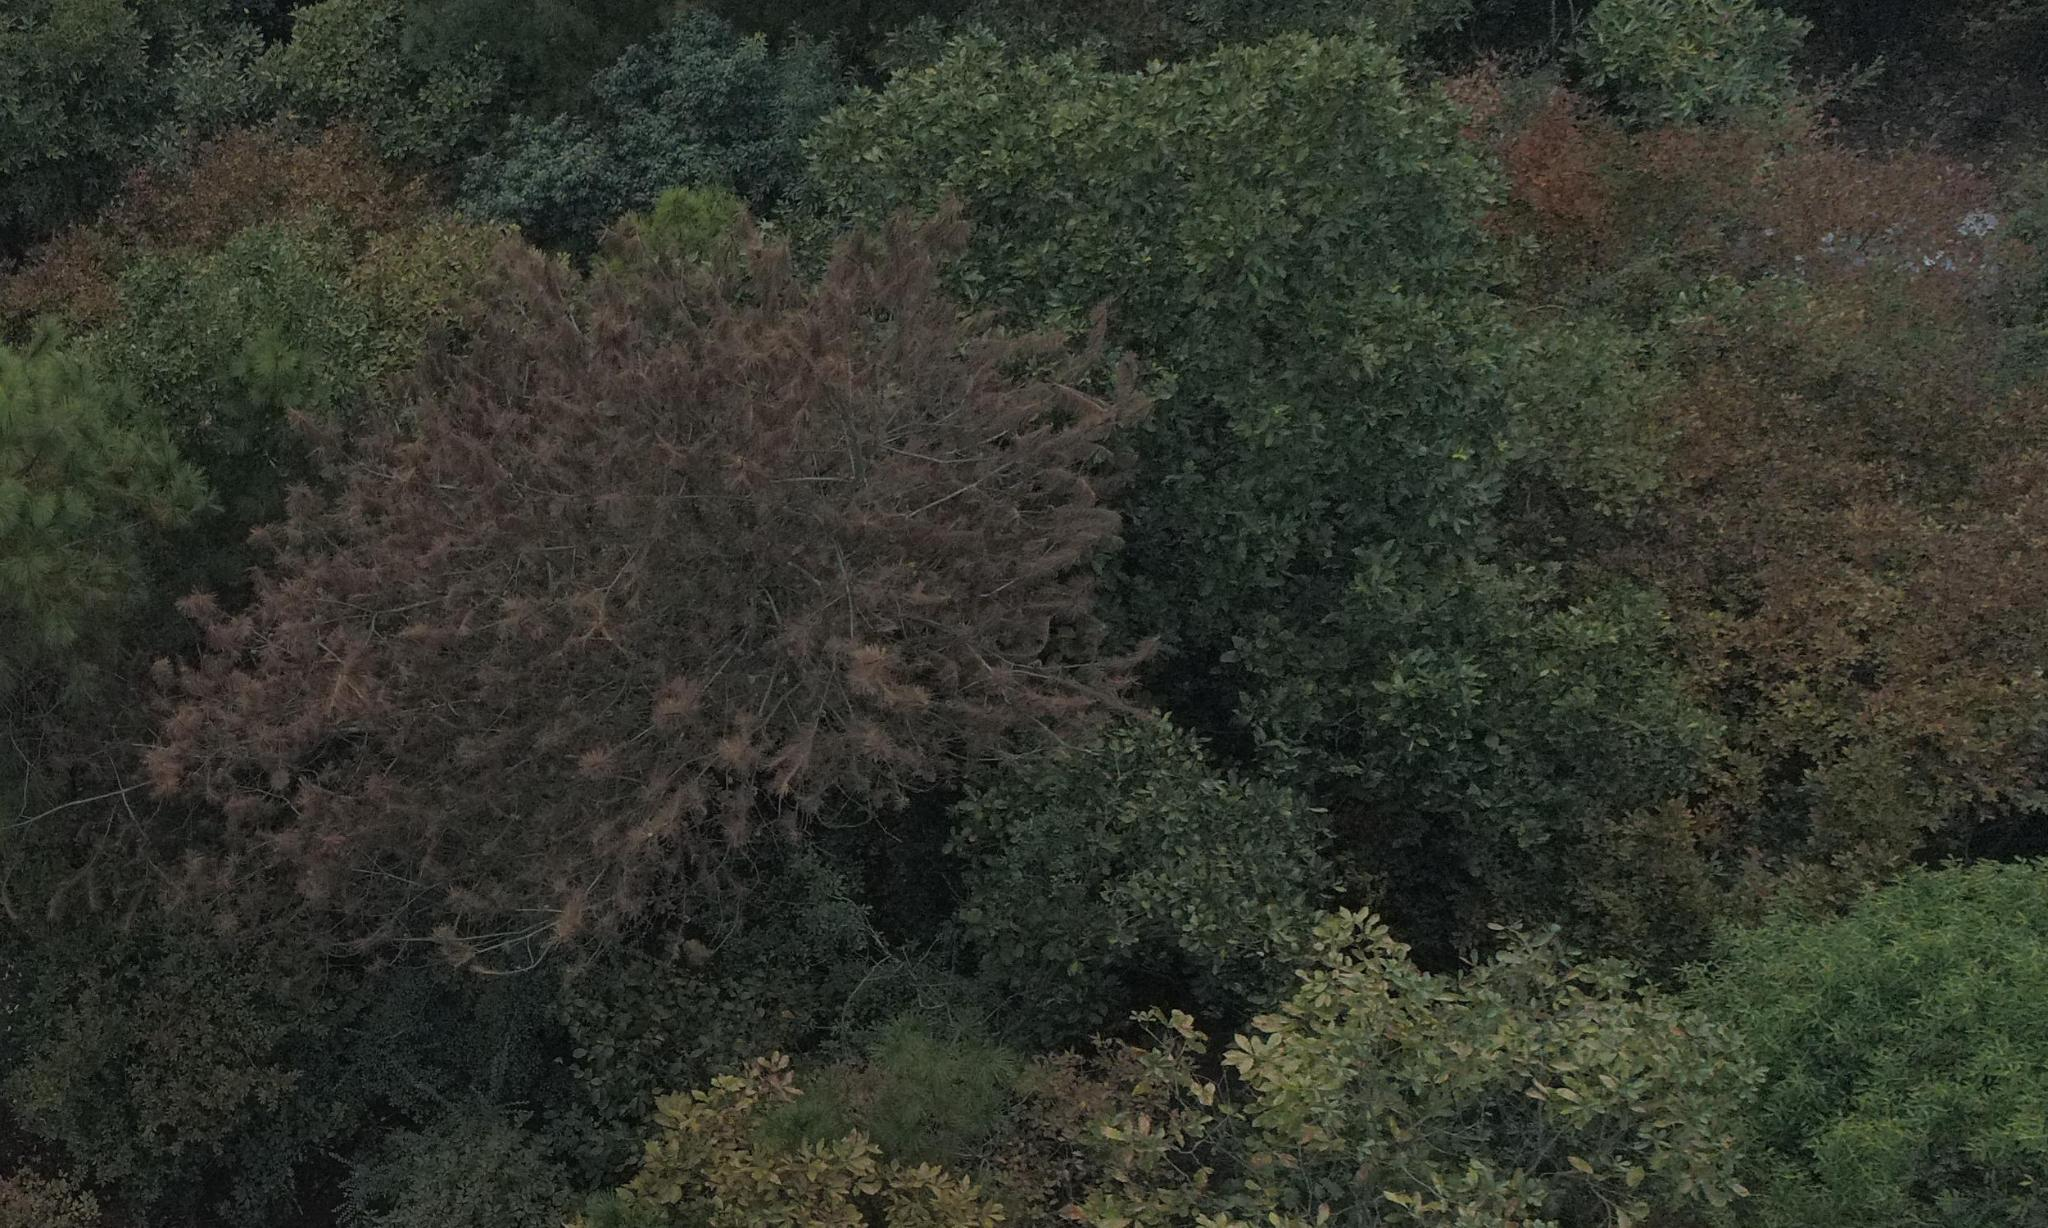heavy: (174, 247, 1121, 896)
